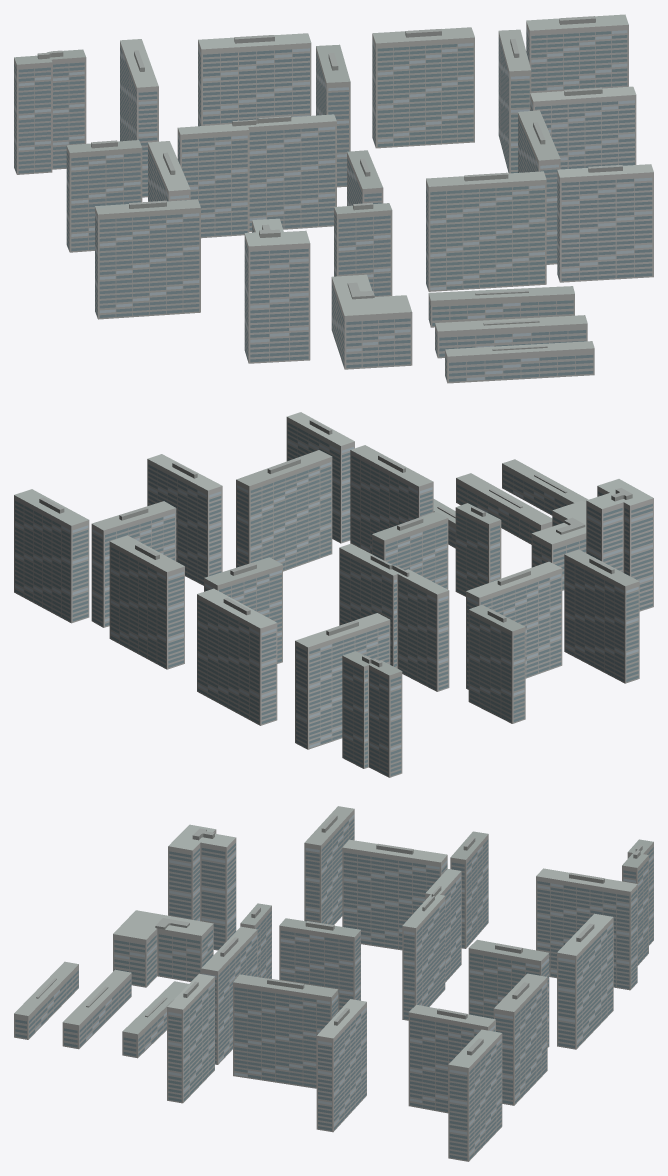
The model's file is apt-a14072701.glb.
3 views of the same model, one above another, from view 1: azimuth 30°, elevation 25°; view 2: azimuth 150°, elevation 25°; view 3: azimuth 270°, elevation 25° (orthographic). The views are drawn at different scales.
Parts seen in each view (by area): view 1: apt-a14072701; view 2: apt-a14072701; view 3: apt-a14072701.
Boxes of the visible parts, x1,y1,x2,y2 form: apt-a14072701: [14, 14, 653, 383]; apt-a14072701: [14, 412, 653, 777]; apt-a14072701: [14, 806, 653, 1161].
Size of the model in its own units: 357 by 69 by 368.
